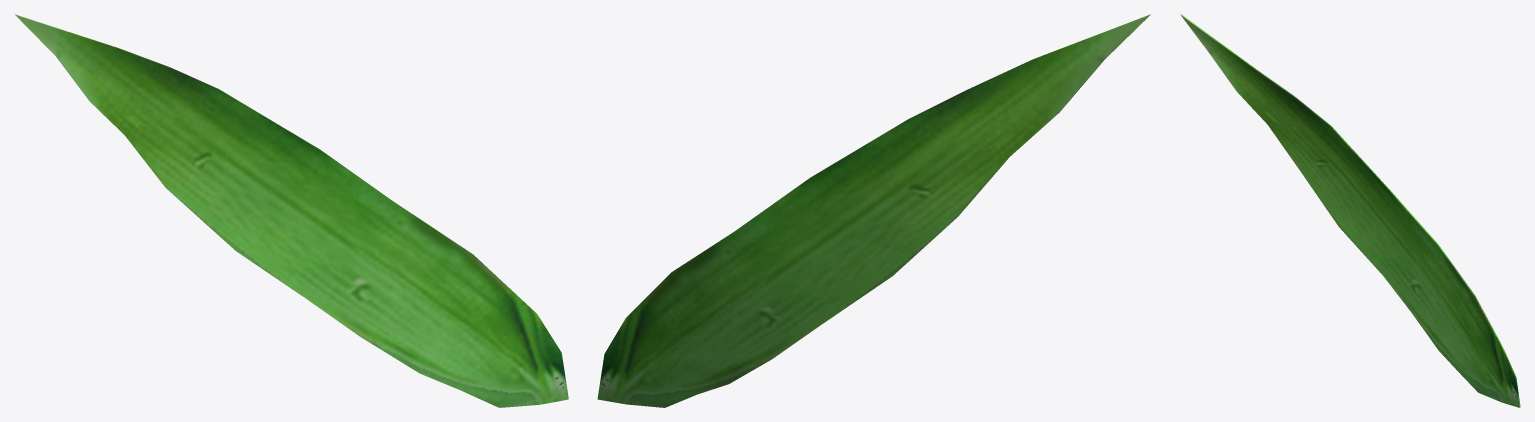
Rendered from bamboo1.fbx.
The picture shows the model from 3 angles, left to right: view 1: azimuth 30°, elevation 25°; view 2: azimuth 150°, elevation 25°; view 3: azimuth 330°, elevation 25°; orthographic projection. The views are drawn at different scales.
Visible parts, largest first — view 1: polySurface1; view 2: polySurface1; view 3: polySurface1.
Part boxes in pixels (x1,y1,x2,y2): polySurface1: [14, 14, 568, 407]; polySurface1: [597, 14, 1150, 407]; polySurface1: [1180, 14, 1520, 407].
Bounding box in the file's own units: 23.13 × 20.76 × 2.1.
Materials: 1 (1 with a texture image).
